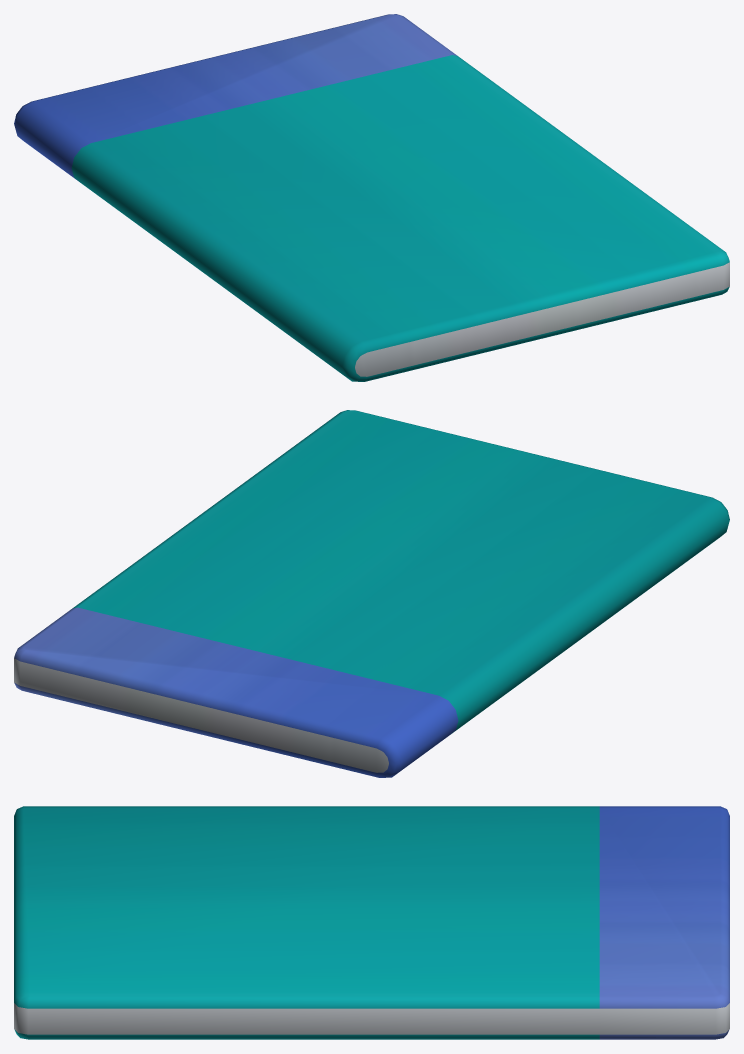
File: Magazine_04.glb
3 views of the same model, one above another, from view 1: azimuth 30°, elevation 25°; view 2: azimuth 150°, elevation 25°; view 3: azimuth 270°, elevation 25° (orthographic). The views are drawn at different scales.
Visible parts, largest first — view 1: Magazine_04; view 2: Magazine_04; view 3: Magazine_04.
Boxes of the visible parts, bbox=[...] form: Magazine_04: bbox=[14, 14, 729, 381]; Magazine_04: bbox=[14, 410, 729, 777]; Magazine_04: bbox=[14, 806, 729, 1039].
Size of the model in its own units: 0.2 by 0.02 by 0.3.
1 material, 1 textured.
